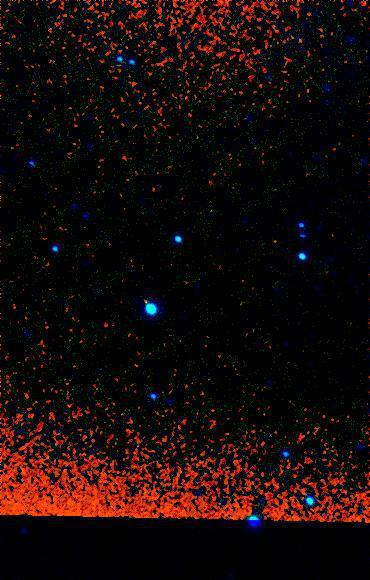star: (131, 286, 161, 316)
